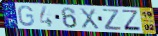4: (39, 6, 54, 29)
6: (60, 6, 78, 29)
G: (17, 5, 36, 27)
X: (79, 7, 101, 31)
Z: (102, 8, 123, 31), (121, 9, 142, 32)
